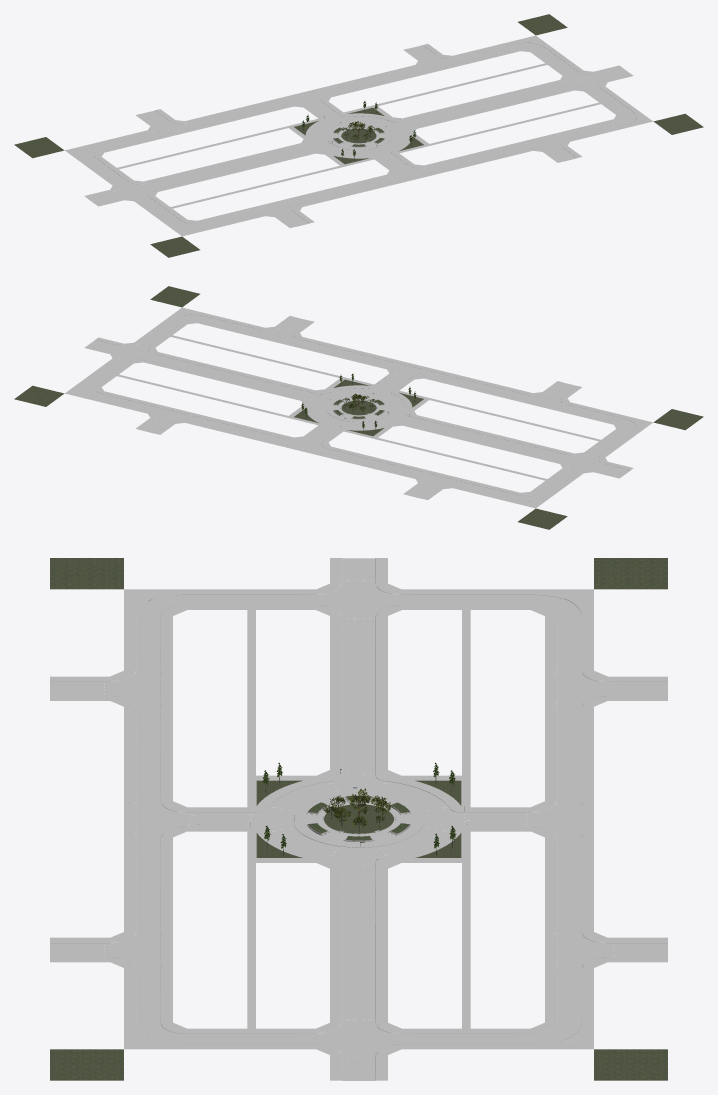
The model's file is Double-Block-04-B.fbx.
The picture shows the model from 3 angles, top to bottom: view 1: azimuth 30°, elevation 25°; view 2: azimuth 150°, elevation 25°; view 3: azimuth 270°, elevation 25°; orthographic projection. The views are drawn at different scales.
Visible parts, largest first — view 1: Double-Block-04-B, Double-Block-04-Sidewalk-B, Double-Block-04, Double-Block-04-C, Double-Block-04-Sidewalk, Double-Block-04-Sidewalk-C, Trees; view 2: Double-Block-04-B, Double-Block-04-Sidewalk-B, Double-Block-04, Double-Block-04-C, Double-Block-04-Sidewalk, Double-Block-04-Sidewalk-C, Trees; view 3: Double-Block-04-B, Double-Block-04, Double-Block-04-C, Double-Block-04-Sidewalk-B, Double-Block-04-Sidewalk, Double-Block-04-Sidewalk-C, Trees.
Part boxes in pixels (<box>): Double-Block-04-B: <box>196,69,521,202</box>; Double-Block-04-Sidewalk-B: <box>193,67,524,204</box>; Double-Block-04: <box>409,14,703,161</box>; Double-Block-04-C: <box>14,110,309,257</box>; Double-Block-04-Sidewalk: <box>403,35,652,162</box>; Double-Block-04-Sidewalk-C: <box>65,109,314,236</box>; Trees: <box>302,101,415,159</box>; Double-Block-04-B: <box>196,341,521,474</box>; Double-Block-04-Sidewalk-B: <box>193,339,524,476</box>; Double-Block-04: <box>14,286,308,433</box>; Double-Block-04-C: <box>408,382,703,529</box>; Double-Block-04-Sidewalk: <box>65,307,314,434</box>; Double-Block-04-Sidewalk-C: <box>403,381,652,508</box>; Trees: <box>301,373,416,431</box>; Double-Block-04-B: <box>135,715,582,923</box>; Double-Block-04: <box>50,922,667,1080</box>; Double-Block-04-C: <box>50,558,667,716</box>; Double-Block-04-Sidewalk-B: <box>124,715,593,923</box>; Double-Block-04-Sidewalk: <box>50,922,667,1080</box>; Double-Block-04-Sidewalk-C: <box>50,558,667,716</box>; Trees: <box>262,762,456,855</box>.
Size of what is drawn, in the model's own units: 600 by 16.1 by 300.
